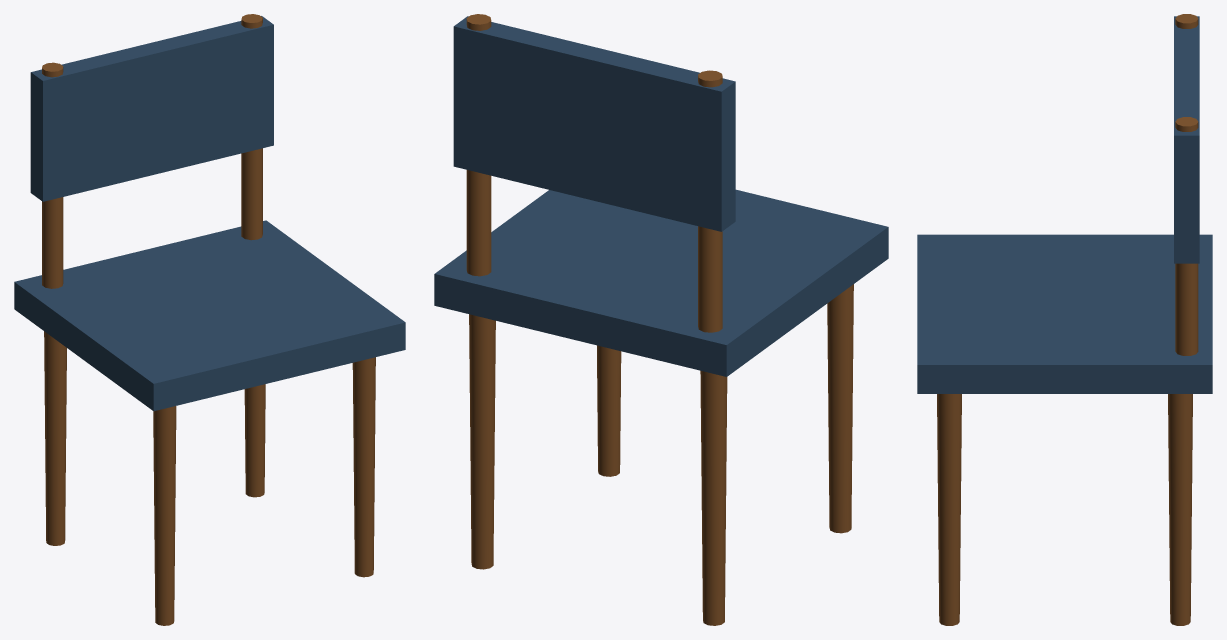
The model's file is chair_modern.glb.
3 views of the same model, side by side, from view 1: azimuth 30°, elevation 25°; view 2: azimuth 150°, elevation 25°; view 3: azimuth 270°, elevation 25° (orthographic). The views are drawn at different scales.
Visible parts, largest first — view 1: Chair; view 2: Chair; view 3: Chair.
Boxes of the visible parts, x1,y1,x2,y2 form: Chair: (14, 14, 405, 625); Chair: (434, 14, 888, 625); Chair: (917, 14, 1212, 625).
Bounding box in the file's own units: 0.48 × 0.86 × 0.46.
